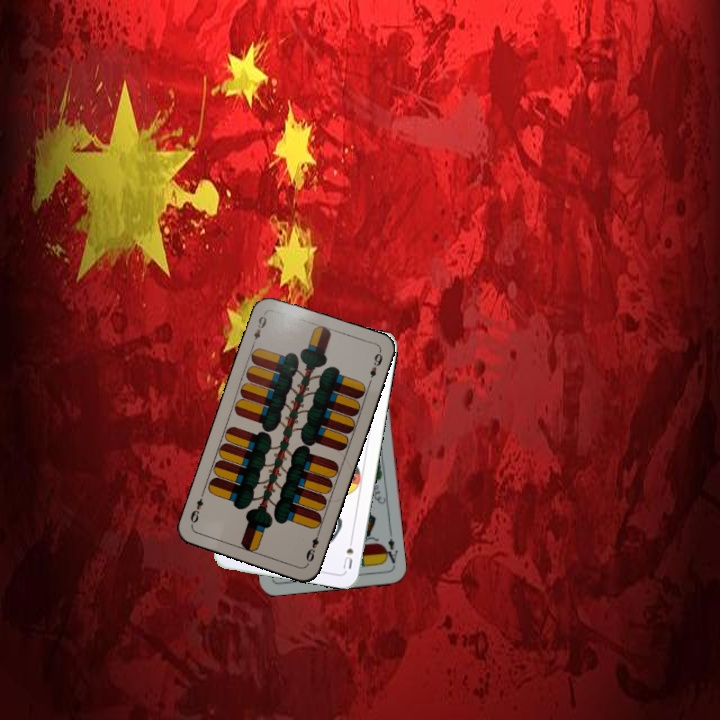E9: (248, 309, 269, 348), (302, 527, 322, 566)
EA: (380, 534, 400, 568)
SU: (339, 532, 356, 572)
